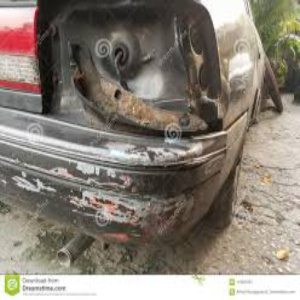bumper_scratch: (11, 146, 193, 214)
tail_lights: (1, 7, 221, 123)
